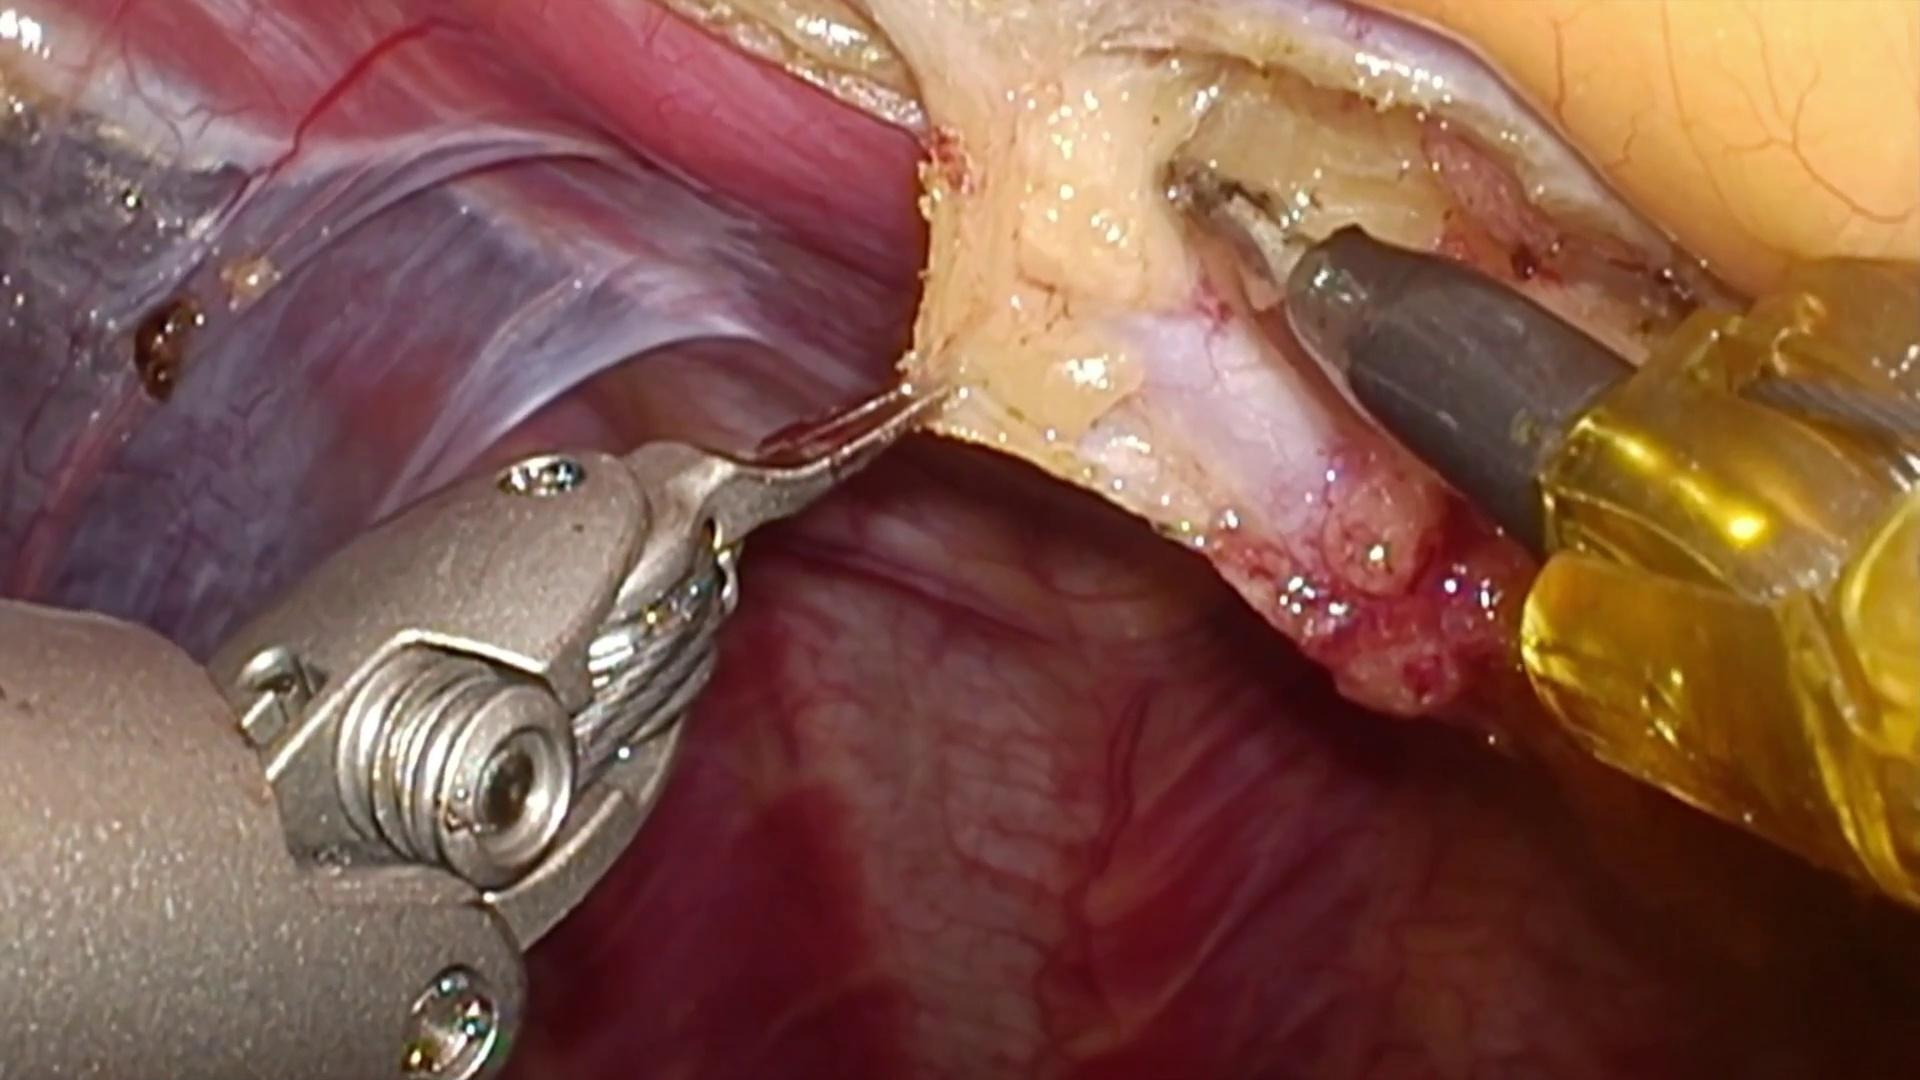Cautery_Spatula: (1176, 173, 1635, 562)
Debakey: (616, 372, 975, 599)
